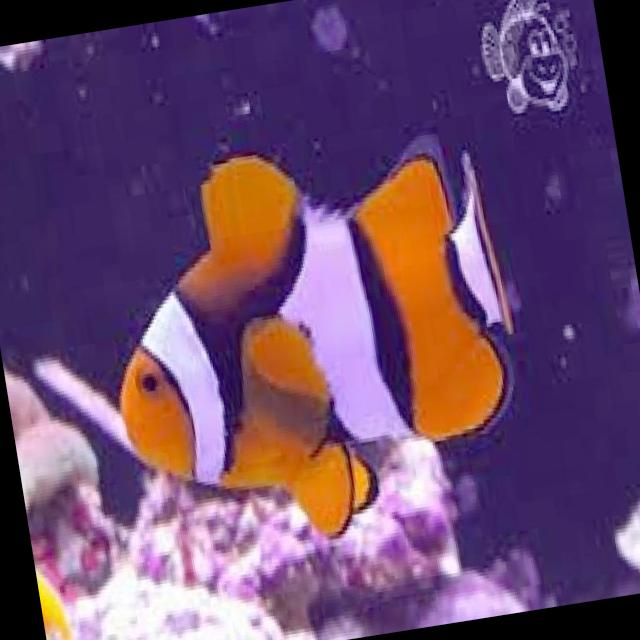ClownFish: (80, 110, 544, 562)
